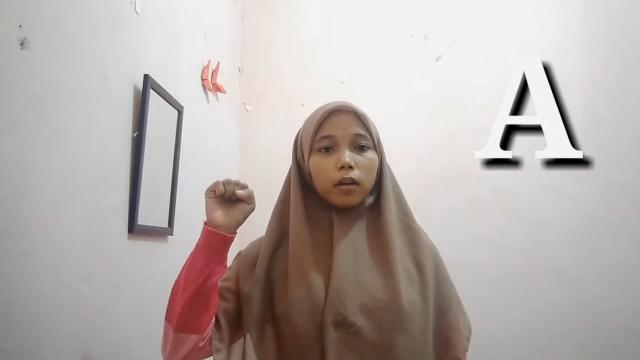A: (203, 176, 259, 236)
